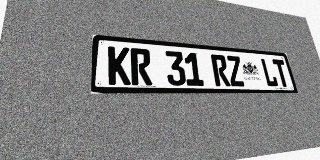1: (183, 52, 204, 86)
3: (165, 51, 186, 86)
K: (108, 46, 131, 85)
L: (260, 58, 279, 87)
R: (130, 48, 152, 85), (210, 54, 231, 86)
T: (272, 59, 291, 87)
Z: (226, 55, 245, 86)
